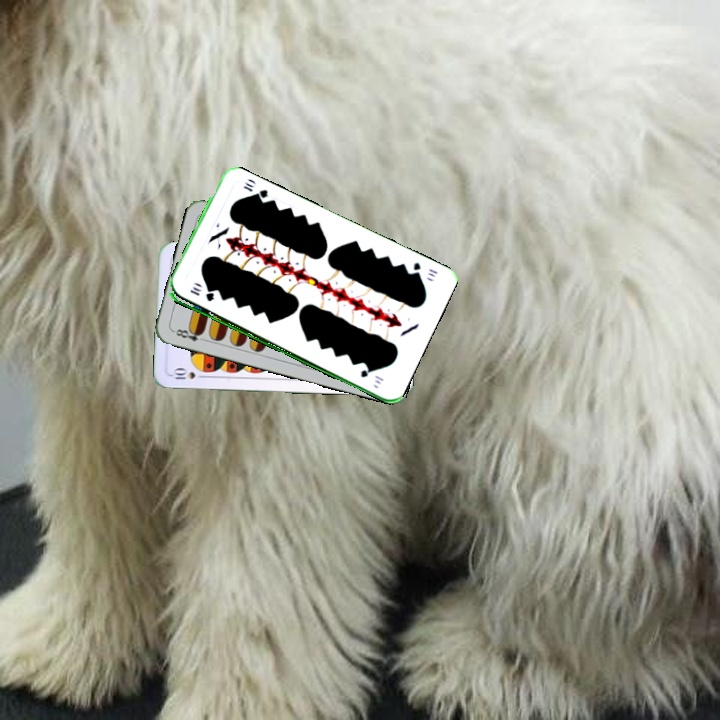E8: (169, 324, 209, 344)
G10: (408, 258, 440, 279), (186, 286, 216, 304)
S10: (168, 366, 208, 382)
